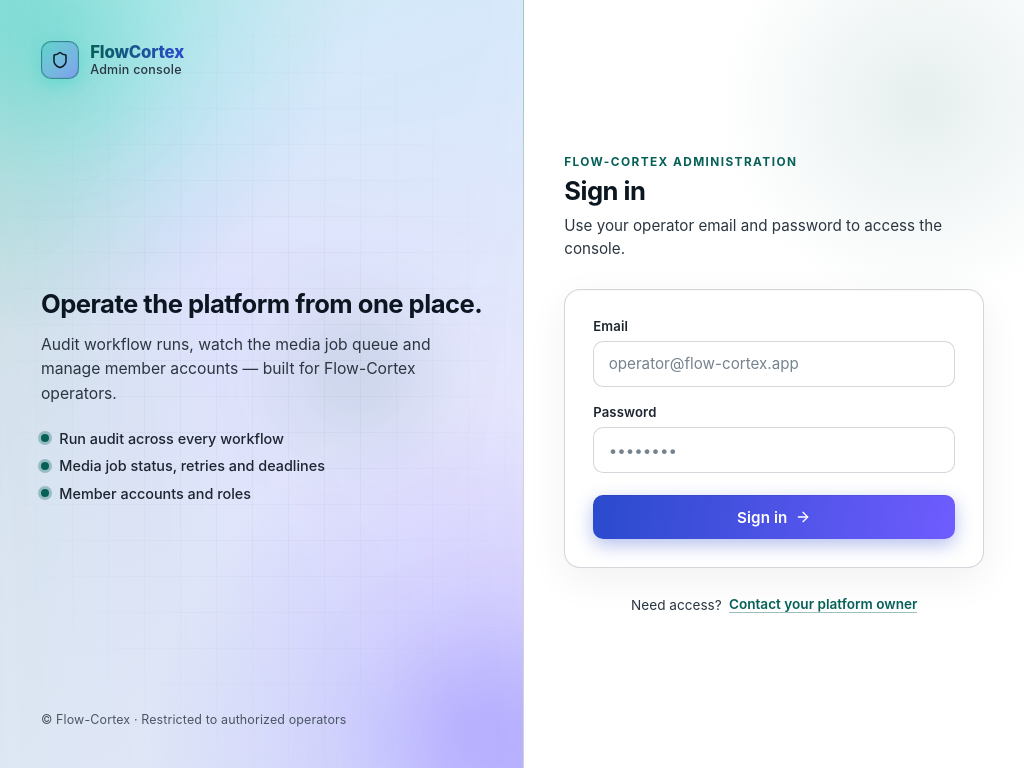
Scenario: RequireAdminApp › sends a signed-out visitor to /login and back to /runs after an ADMIN login
expect the heading "Sign in" is shown: met, box [564, 175, 645, 206]
In the field labelled "Email": [774, 364] box [593, 341, 955, 387], type "admin@flowcortex.dev"
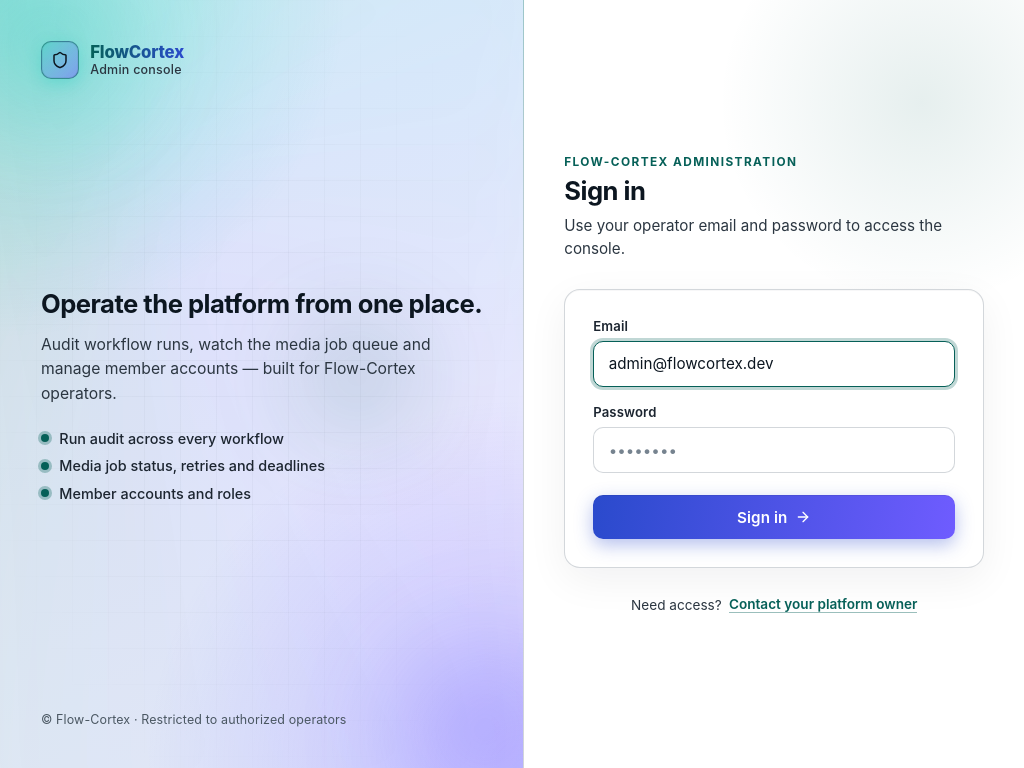
In the password field labelled "Password": [774, 450] box [593, 427, 955, 473], type "secret"
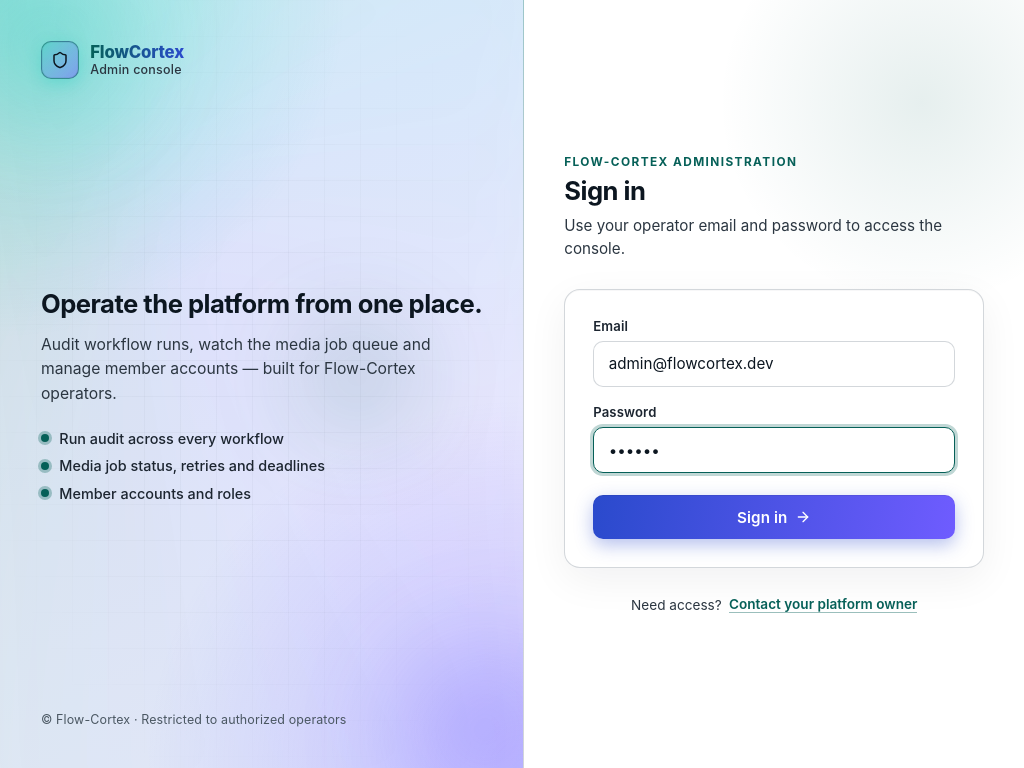
Click the button "Sign in": [774, 517] box [593, 495, 955, 539]
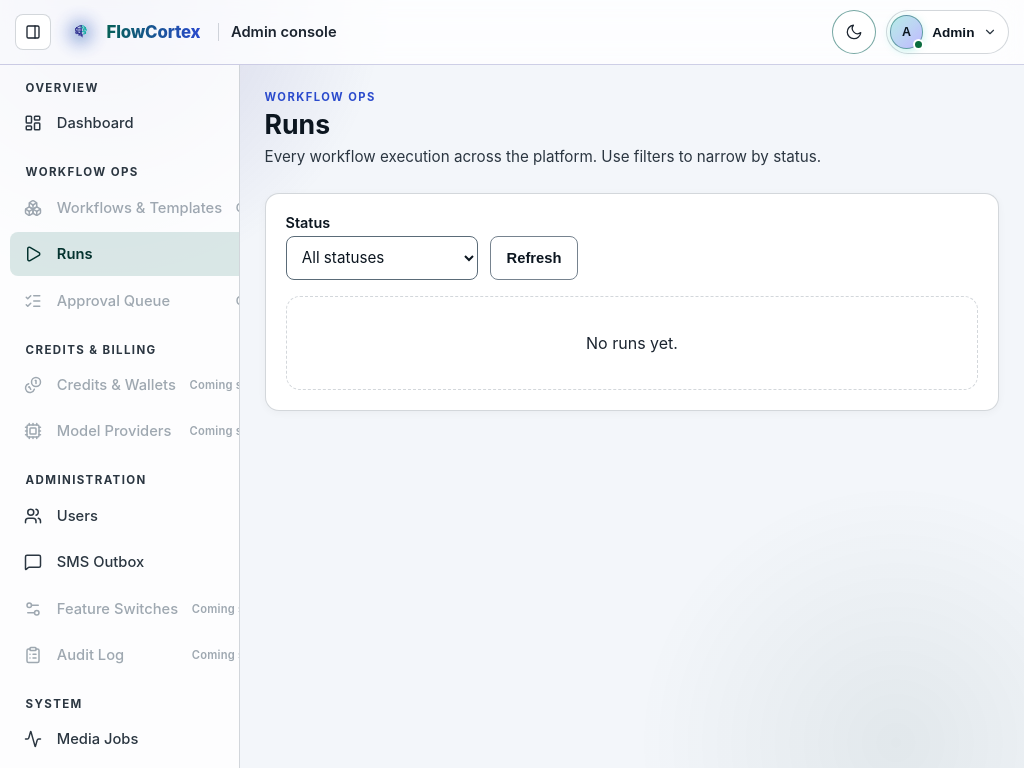
expect the heading "Runs" is shown: met, box [265, 108, 330, 140]
